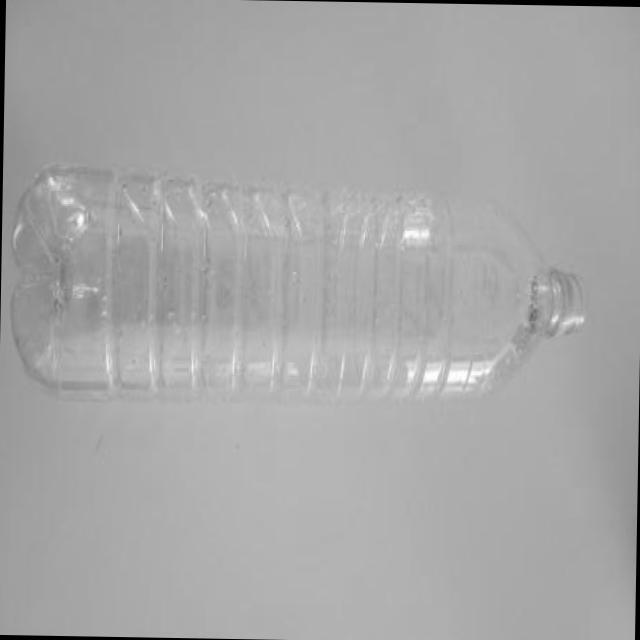good: (0, 141, 602, 427)
